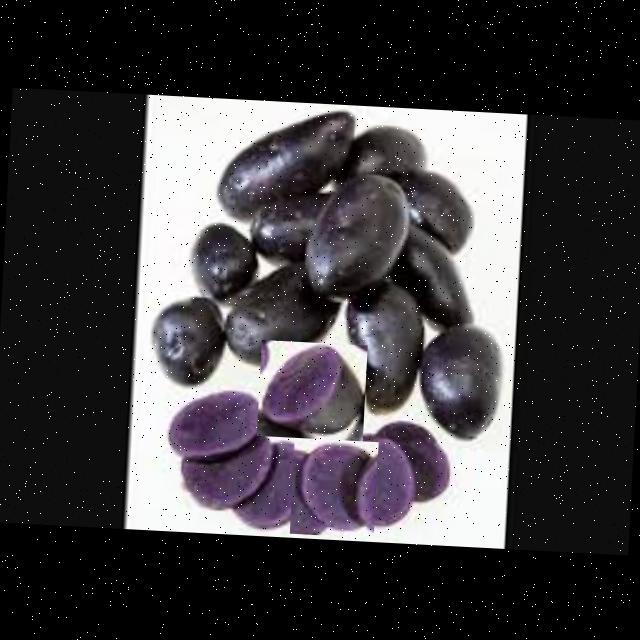Damaged potato: (224, 432, 318, 534), (289, 437, 378, 537)
Defected potato: (256, 339, 367, 440)
